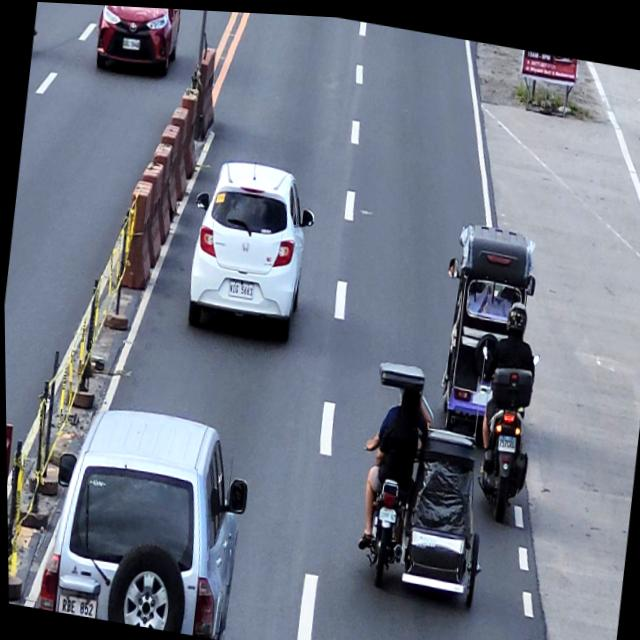Car: (22, 391, 256, 640), (179, 149, 321, 341), (89, 4, 184, 78)
E-bike: (426, 210, 544, 438)
License-Plate: (54, 591, 97, 618), (225, 277, 255, 298), (495, 426, 516, 449), (375, 501, 396, 519), (120, 33, 140, 49)
Motorcycle: (466, 337, 541, 521)
Tricycle: (344, 351, 502, 601)
